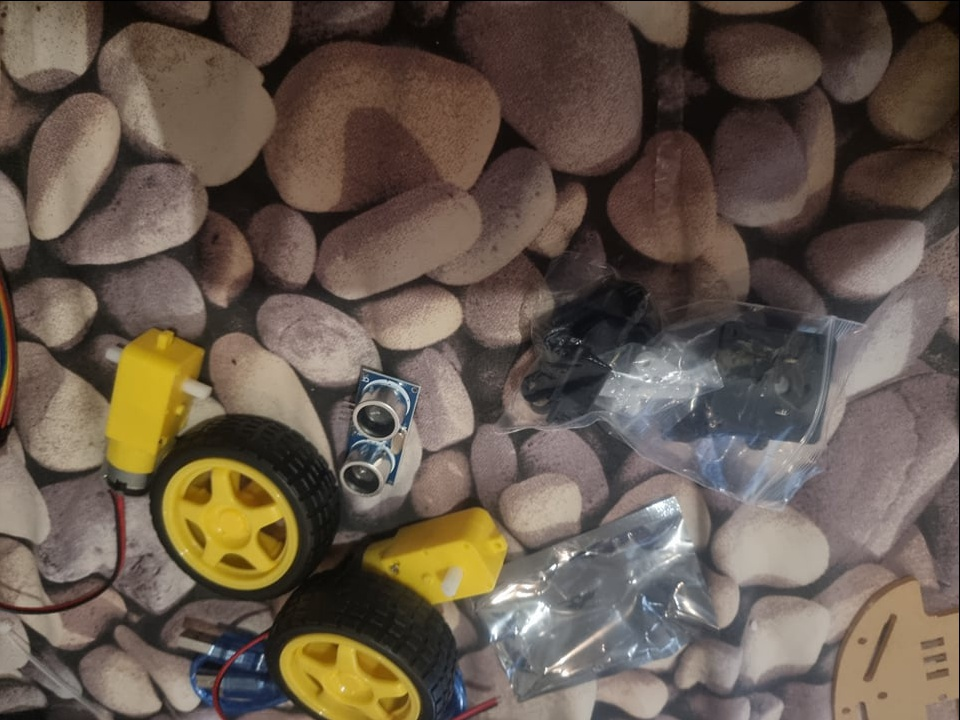SENSOR: (335, 372, 422, 495)
